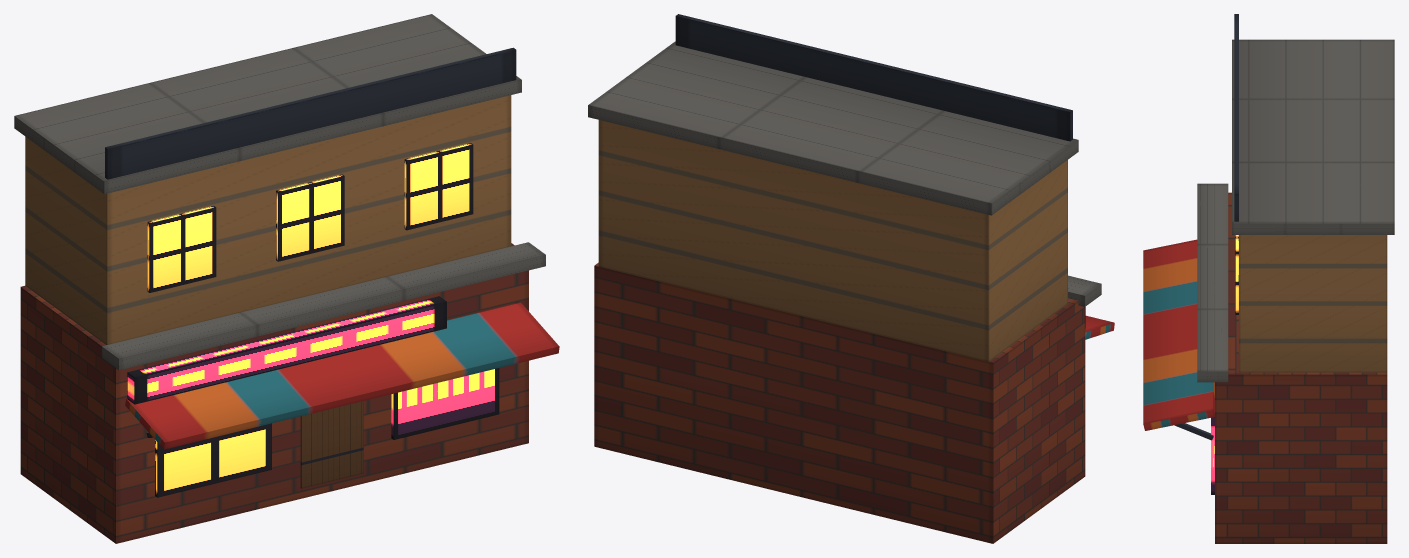
The model's file is ashblock_alley_shopfront_row.glb.
3 renders of one model, left to right at view 1: azimuth 30°, elevation 25°; view 2: azimuth 150°, elevation 25°; view 3: azimuth 270°, elevation 25°, orthographic. The views are drawn at different scales.
Parts seen in each view (by area): view 1: ashblock_alley_shopfront_row; view 2: ashblock_alley_shopfront_row; view 3: ashblock_alley_shopfront_row.
Part boxes in pixels (<box>): ashblock_alley_shopfront_row: <box>14,14,559,543</box>; ashblock_alley_shopfront_row: <box>588,14,1114,543</box>; ashblock_alley_shopfront_row: <box>1143,14,1394,543</box>.
Bounding box in the file's own units: 9.3 × 8.05 × 5.25.
1 material, 1 textured.
